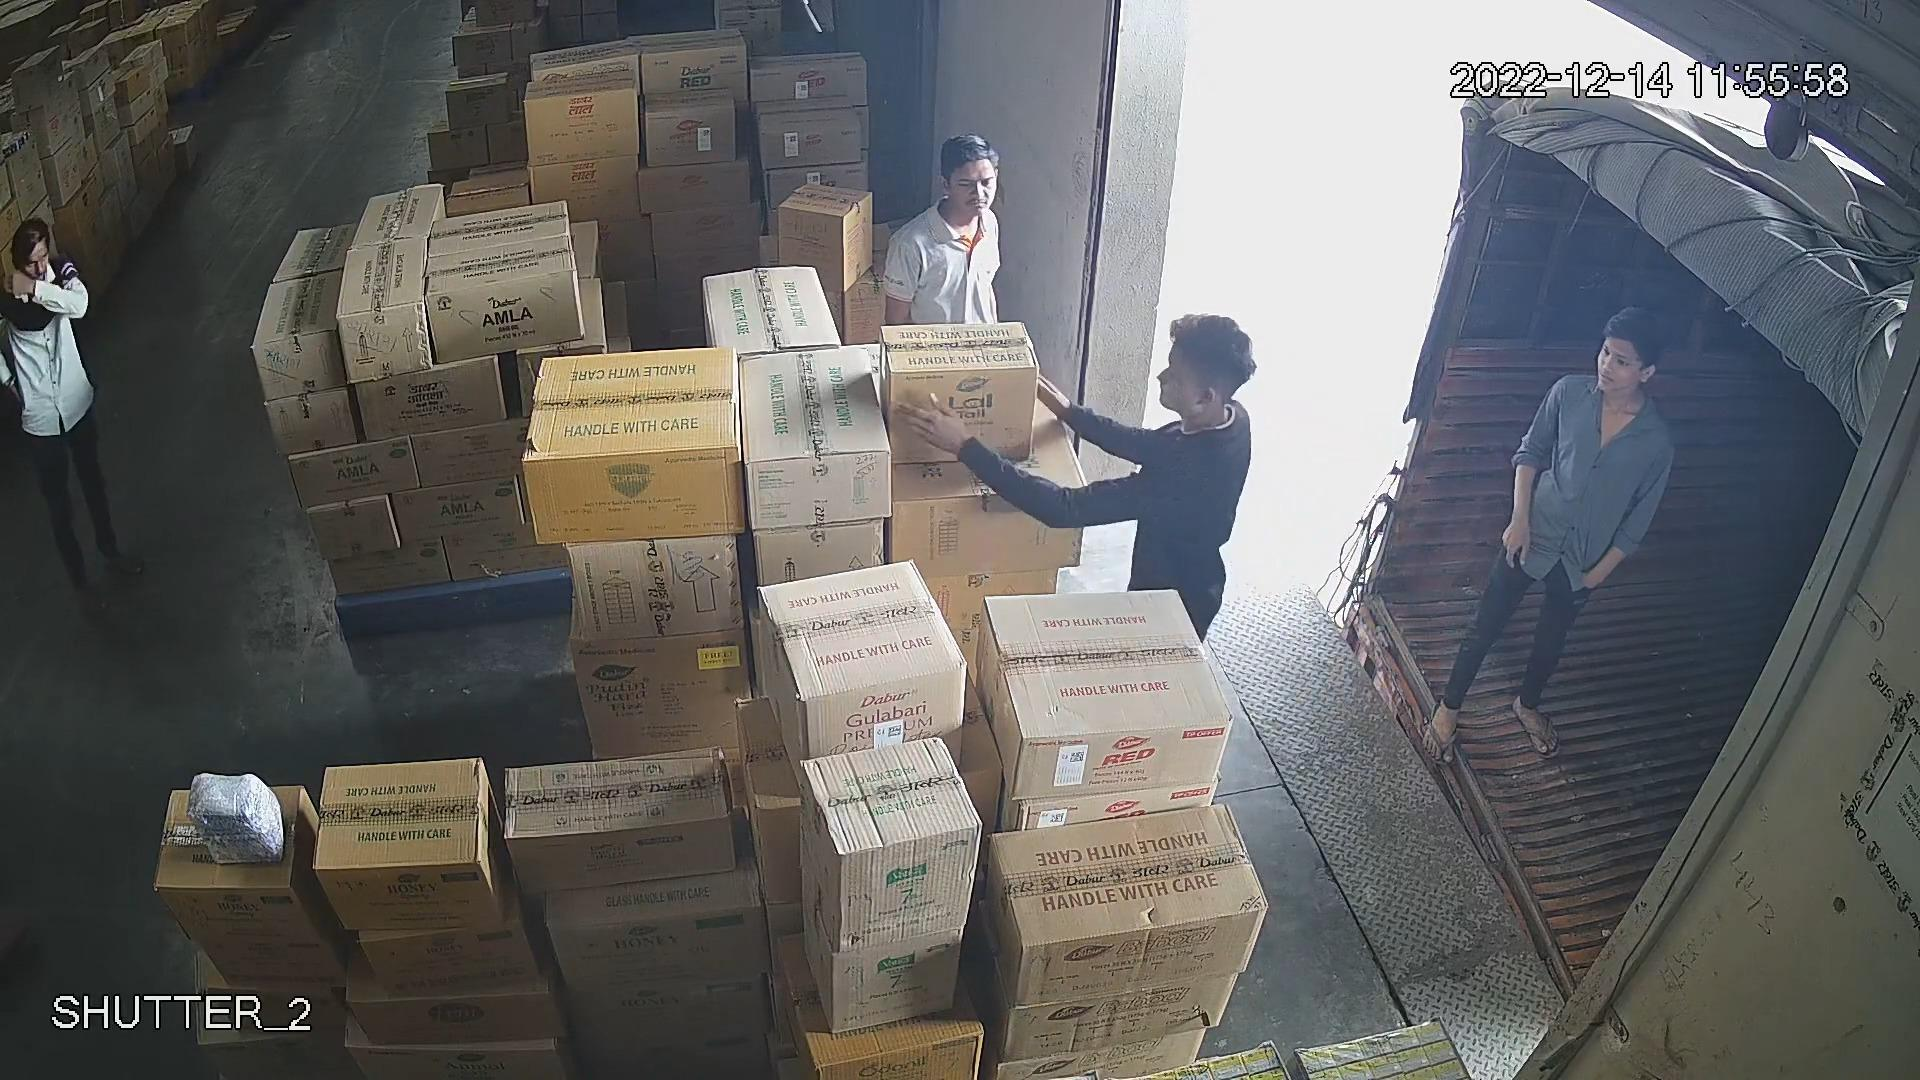-: (988, 806, 1265, 1011), (800, 737, 980, 1036), (977, 592, 1232, 794), (525, 348, 742, 542), (752, 562, 964, 753), (497, 750, 746, 887), (318, 760, 497, 931), (737, 342, 895, 535), (880, 320, 1039, 468), (704, 266, 841, 359), (779, 182, 878, 291), (641, 88, 746, 167)
